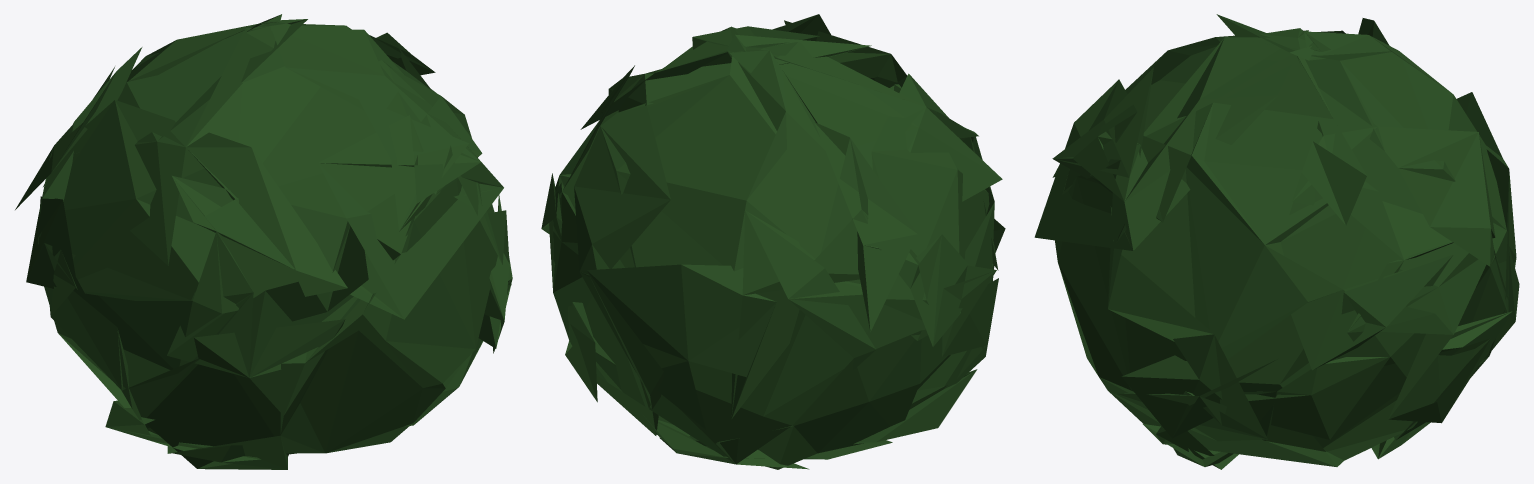
Rendered from bush 1.fbx.
3 renders of one model, left to right at view 1: azimuth 30°, elevation 25°; view 2: azimuth 150°, elevation 25°; view 3: azimuth 270°, elevation 25°, orthographic. The views are drawn at different scales.
Visible parts, largest first — view 1: bush.002; view 2: bush.002; view 3: bush.002.
Part boxes in pixels (x1,y1,x2,y2): bush.002: (15, 14, 512, 469); bush.002: (541, 14, 1005, 469); bush.002: (1034, 14, 1519, 469).
Bounding box in the file's own units: 32.5 × 27.92 × 31.25.
